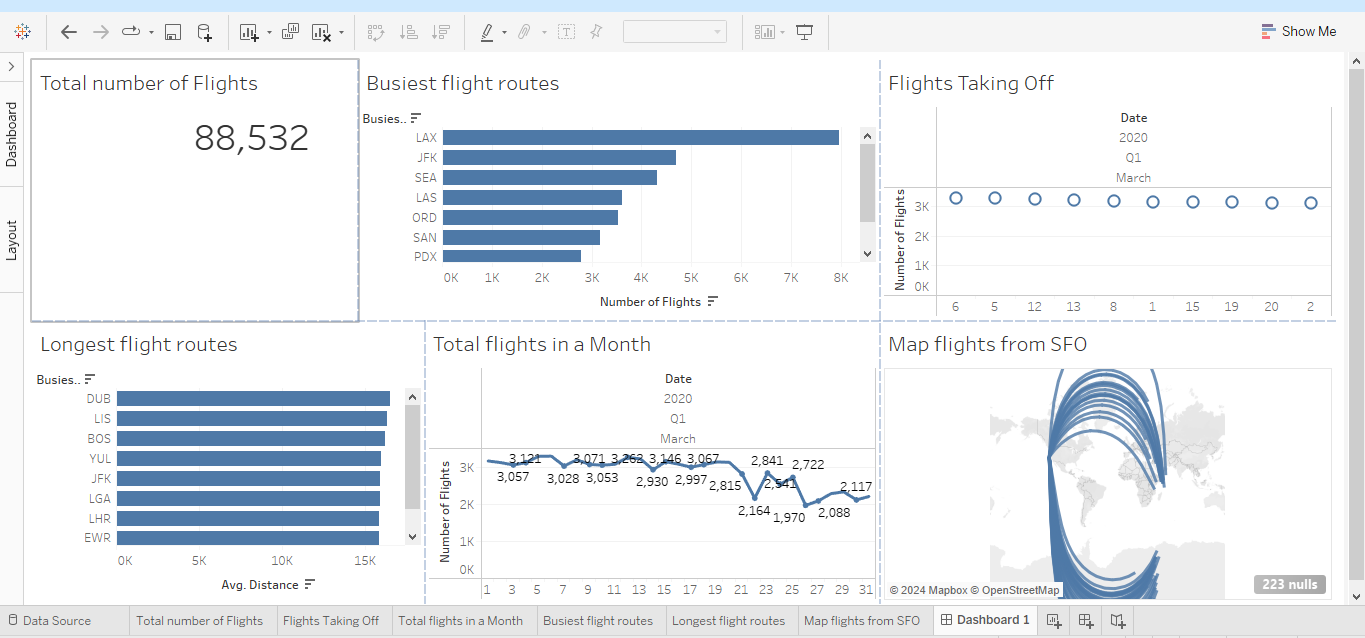

This screenshot's page, from the dashboard's own definition file:
{"tool":"tableau","page":{"name":"Airline SFO Dashboard","canvas":[1000,1000],"units":"permille","ordinal":0},"visuals":[{"type":"worksheet","title":"Total number of Flights","mark":"Automatic","box":[6.1,14.3,247,466.1]},{"type":"worksheet","title":"Busiest flight routes","mark":"Automatic","rows":["Calculation_312437286471819265"],"cols":["Calculation_312437286466232320"],"box":[253,14.3,395.4,466.1]},{"type":"worksheet","title":"Flights Taking Off","mark":"Shape","rows":["Calculation_312437286466232320"],"cols":["Date","Date","Date","Date"],"box":[648.5,14.3,345.5,466.1]},{"type":"worksheet","title":"Longest flight routes","mark":"Automatic","rows":["Calculation_312437286471819265"],"cols":["Calculation_312437286474256388"],"box":[6.1,480.4,297.7,505.4]},{"type":"worksheet","title":"Total flights in a Month","mark":"Automatic","rows":["Calculation_312437286466232320"],"cols":["Date","Date","Date","Date"],"box":[303.8,480.4,345.1,505.4]},{"type":"worksheet","title":"Map flights from SFO","mark":"Automatic","box":[648.9,480.4,345.1,505.4]}]}

Visuals, with their boxes on the dashboard's canvas, which has no fixed pixel size, in thousandths of its width and height (x1, y1, x2, y2). These are canvas units, not pixel positions in the 1365x638 screenshot, which may show the page scaled, cropped or inside an application window:
"Total number of Flights" worksheet: {"left": 6, "top": 14, "right": 253, "bottom": 480}
"Busiest flight routes" worksheet: {"left": 253, "top": 14, "right": 648, "bottom": 480}
"Flights Taking Off" worksheet (Shape marks): {"left": 648, "top": 14, "right": 994, "bottom": 480}
"Longest flight routes" worksheet: {"left": 6, "top": 480, "right": 304, "bottom": 986}
"Total flights in a Month" worksheet: {"left": 304, "top": 480, "right": 649, "bottom": 986}
"Map flights from SFO" worksheet: {"left": 649, "top": 480, "right": 994, "bottom": 986}
